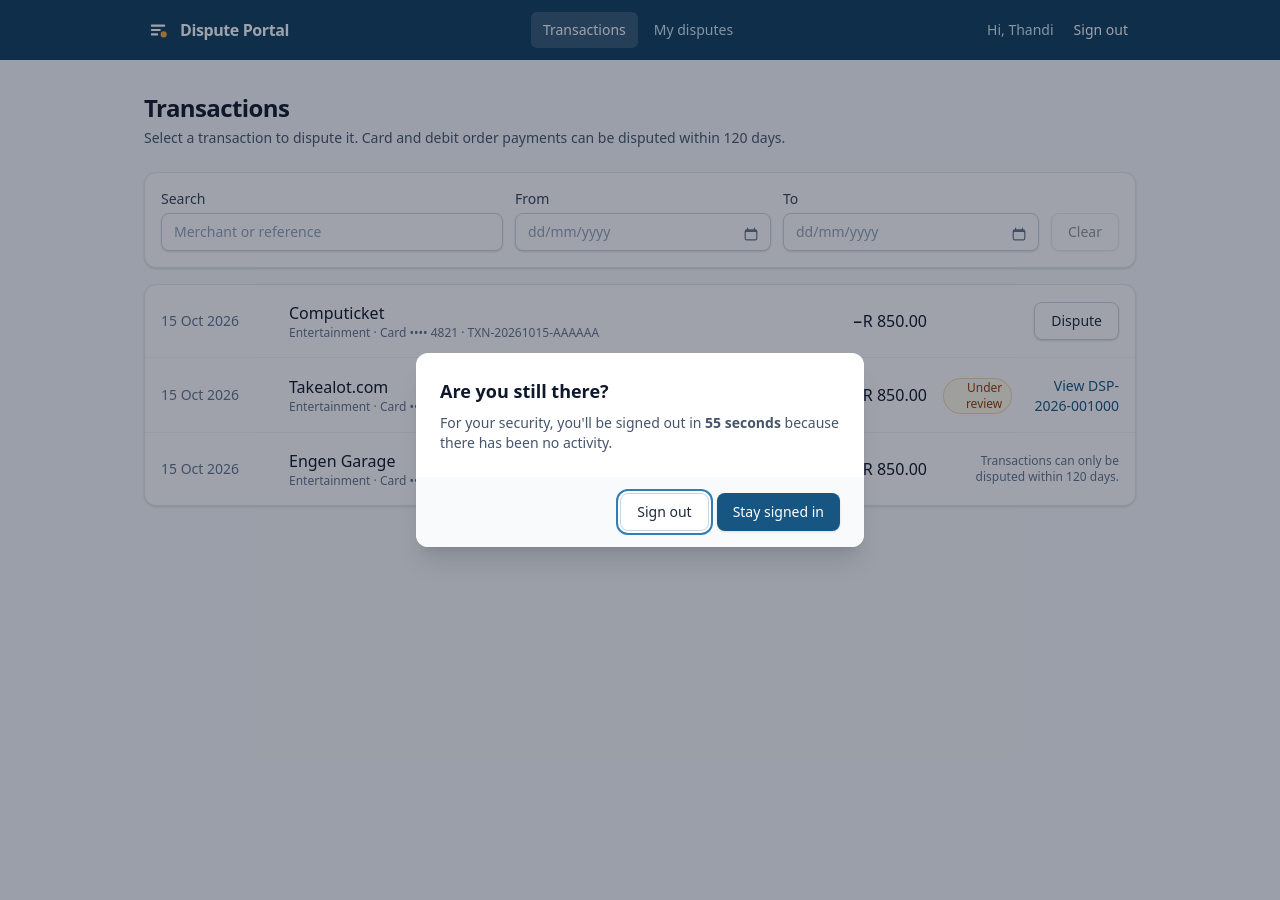
it: AuthProvider › "still there?" warning › "Sign out" signs out straight away
This screenshot has width=1280, height=900.
Expected: the heading "Transactions" is shown, [144,91,289,124]
Click the button "Sign out" at (664, 512), box [620,493,709,531]
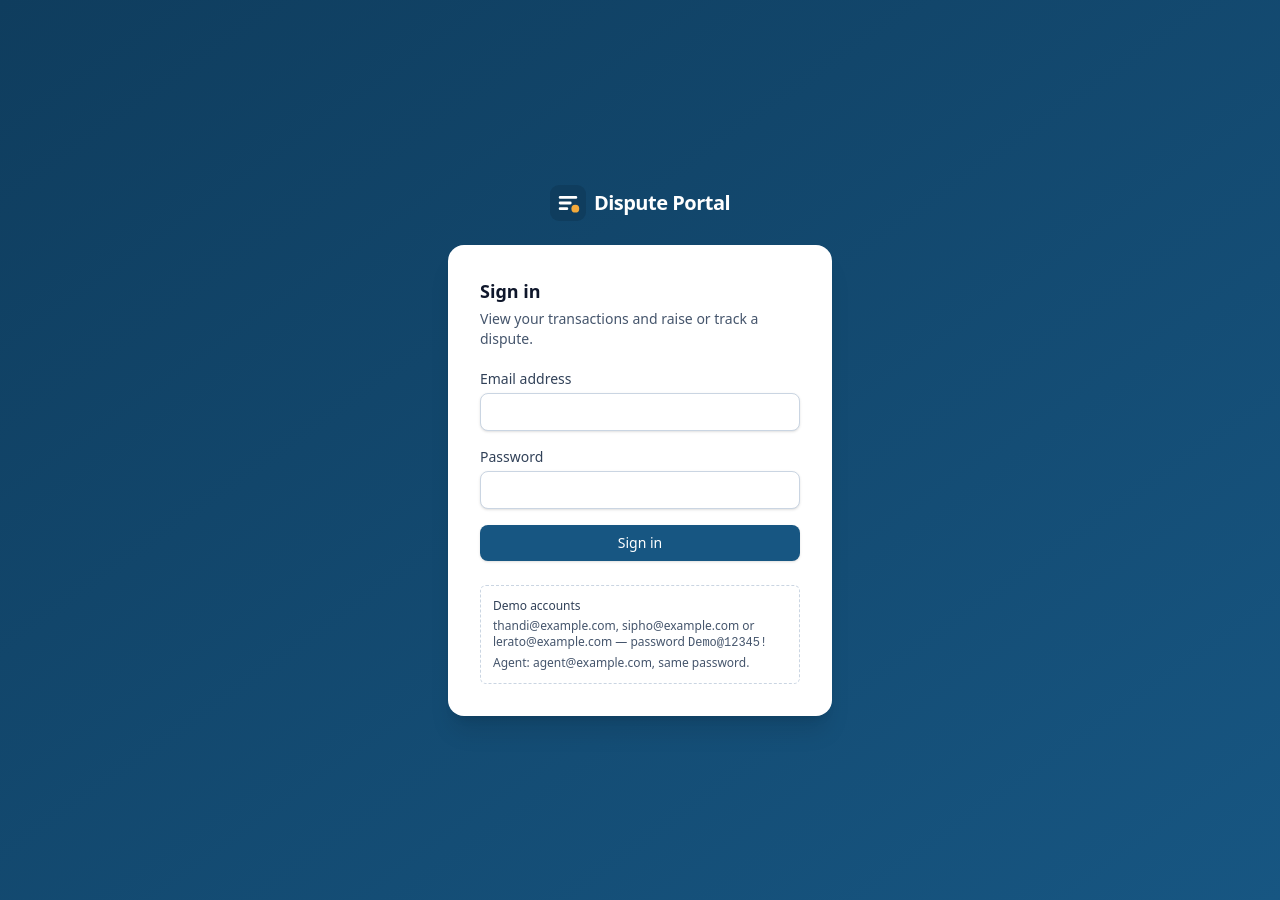
Expected: the heading "Sign in" is shown, [480,278,541,302]
